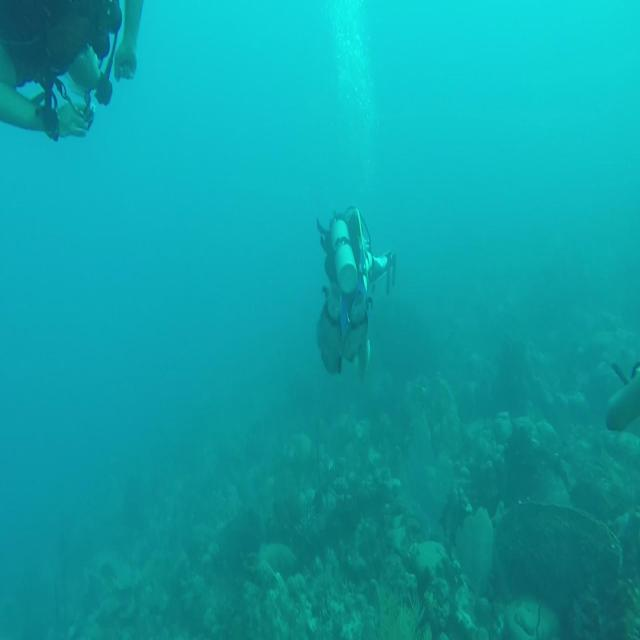human: (0, 0, 143, 142), (315, 204, 396, 380)
